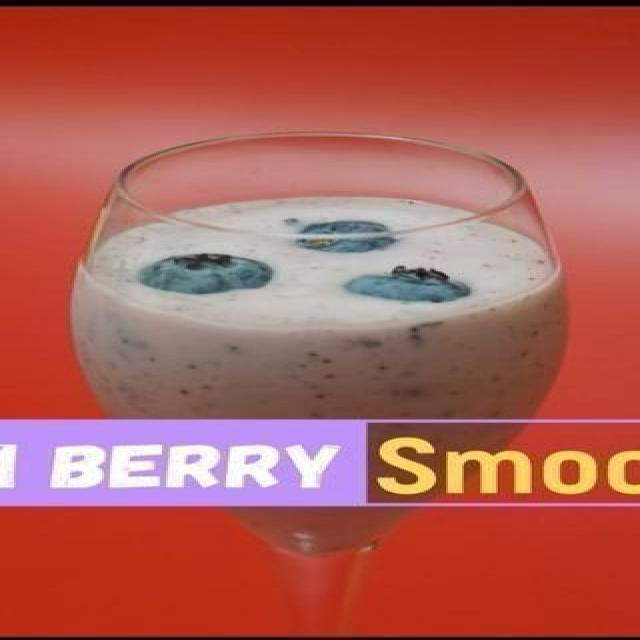glass-wine: (66, 128, 584, 640)
